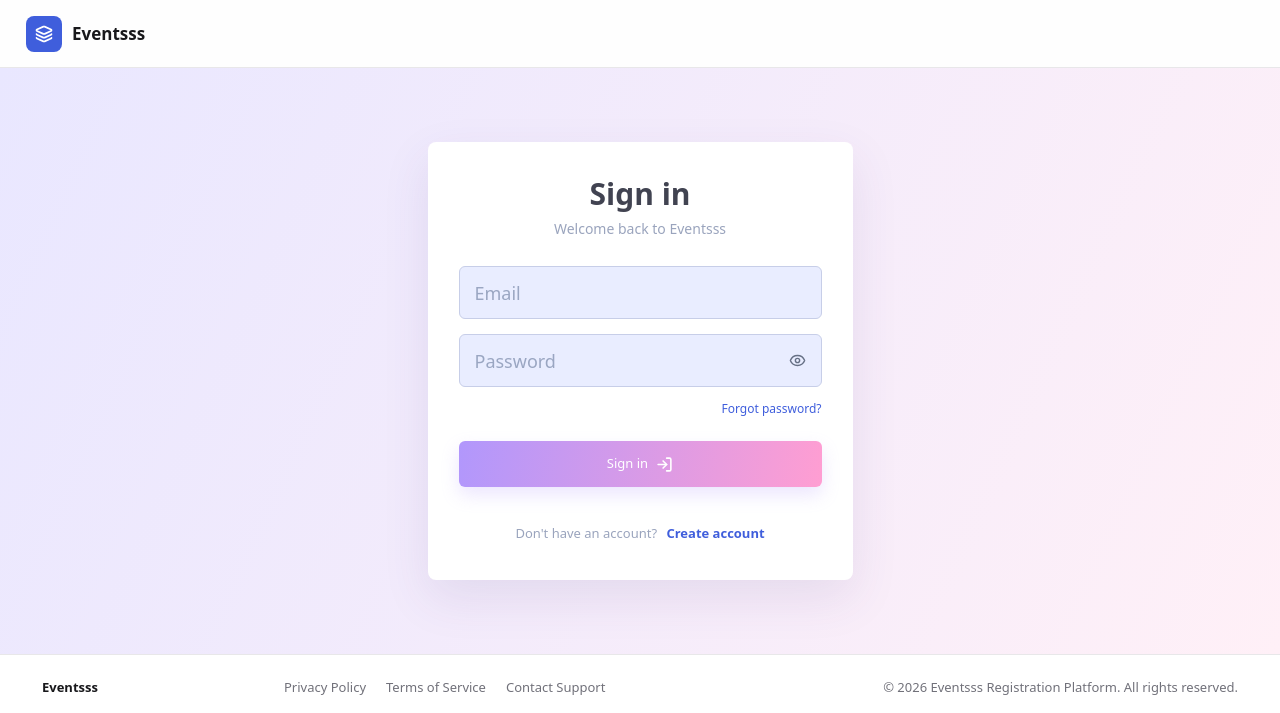
Test: Event governance › EVENT-002 retains an unsaved draft when the API reports a version conflict
In the field with test id "email": (641, 293) [459,266,822,319], type "admin@example.test"
In the password field with test id "password": (641, 361) [459,334,822,387], type "test-password-123"
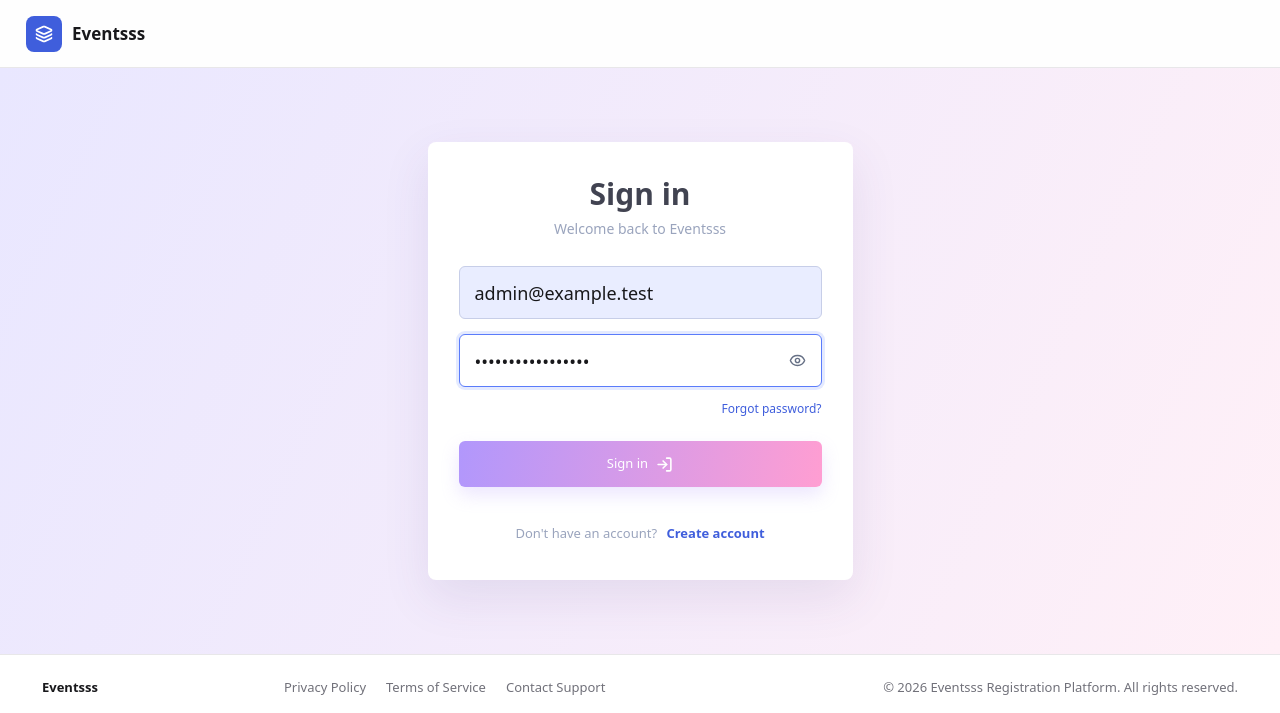
Click the button with test id "login-submit": (641, 464) [459,441,822,487]
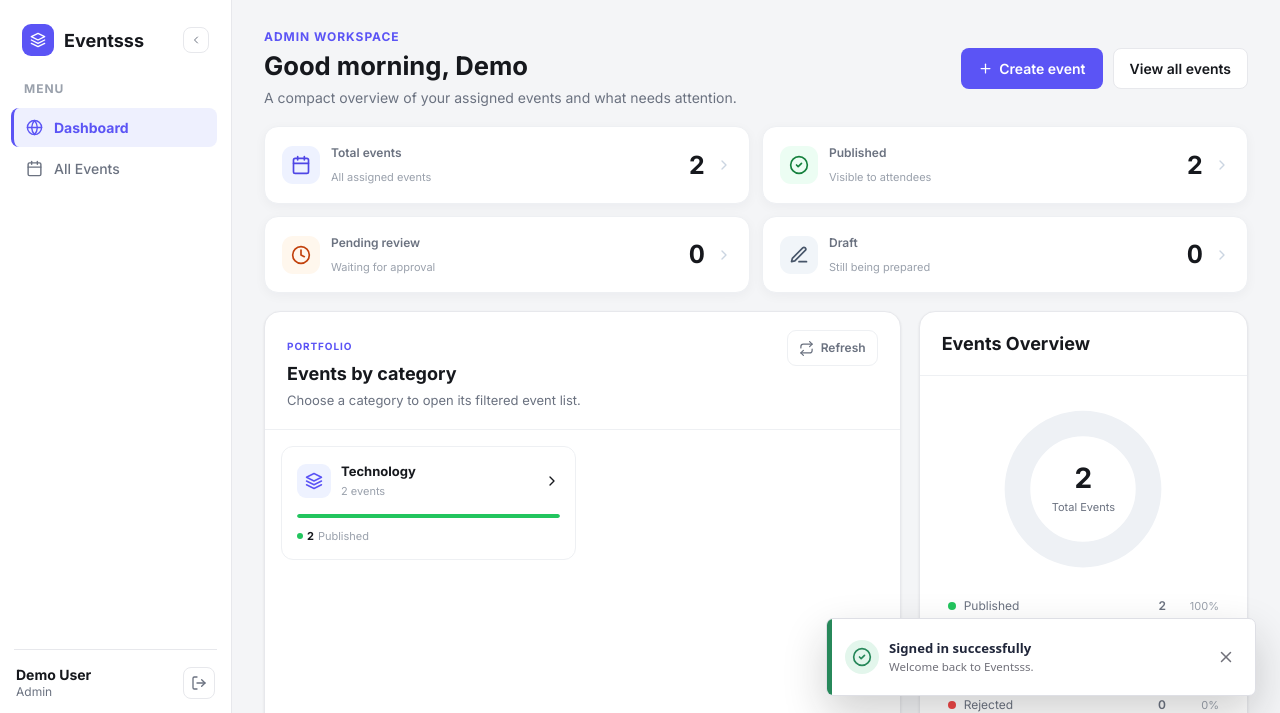
Open "/admin/create-event"
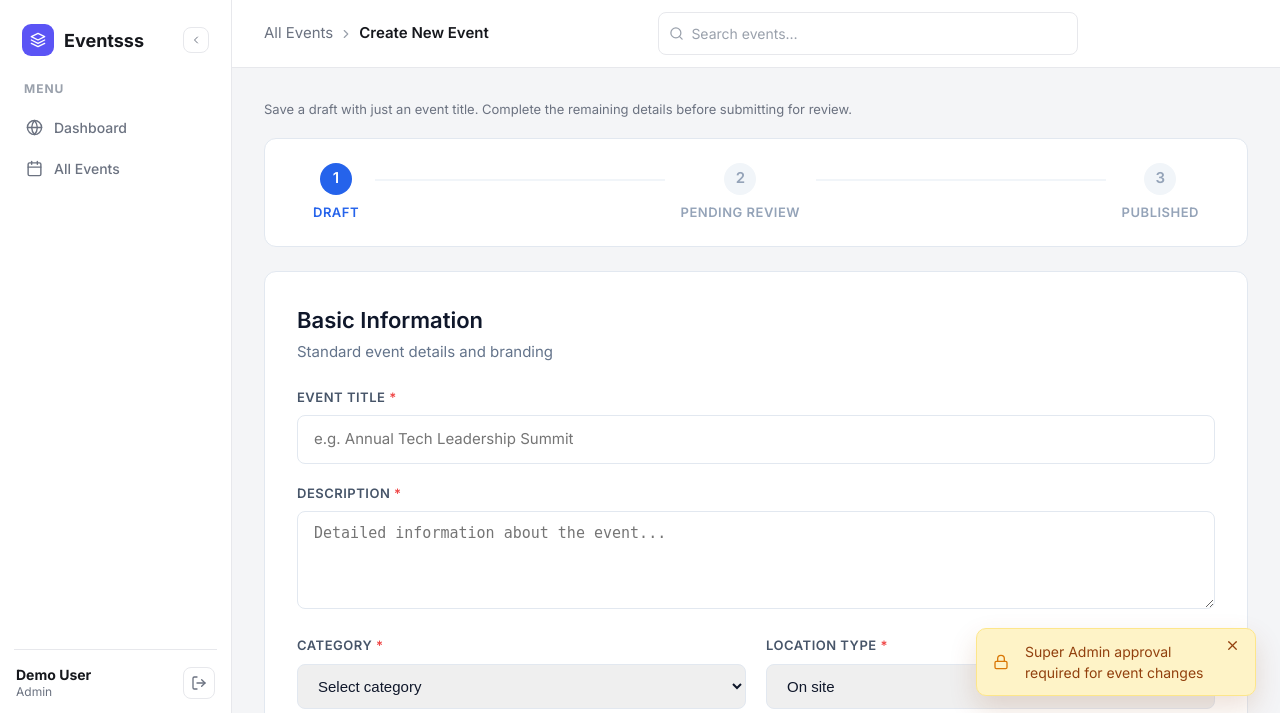
expect the field with test id "event-title" is enabled: met
In the field with test id "event-title": (756, 440) [297,415,1215,464], type "Unsaved workshop"
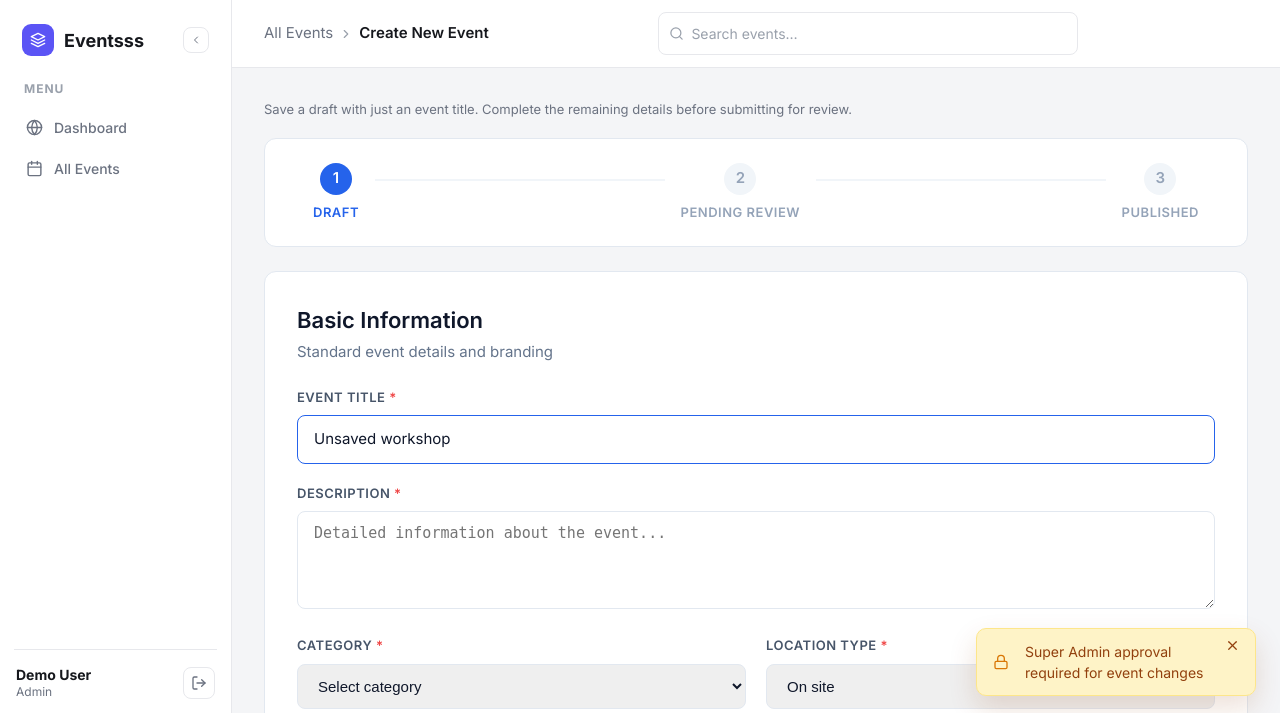
Scroll
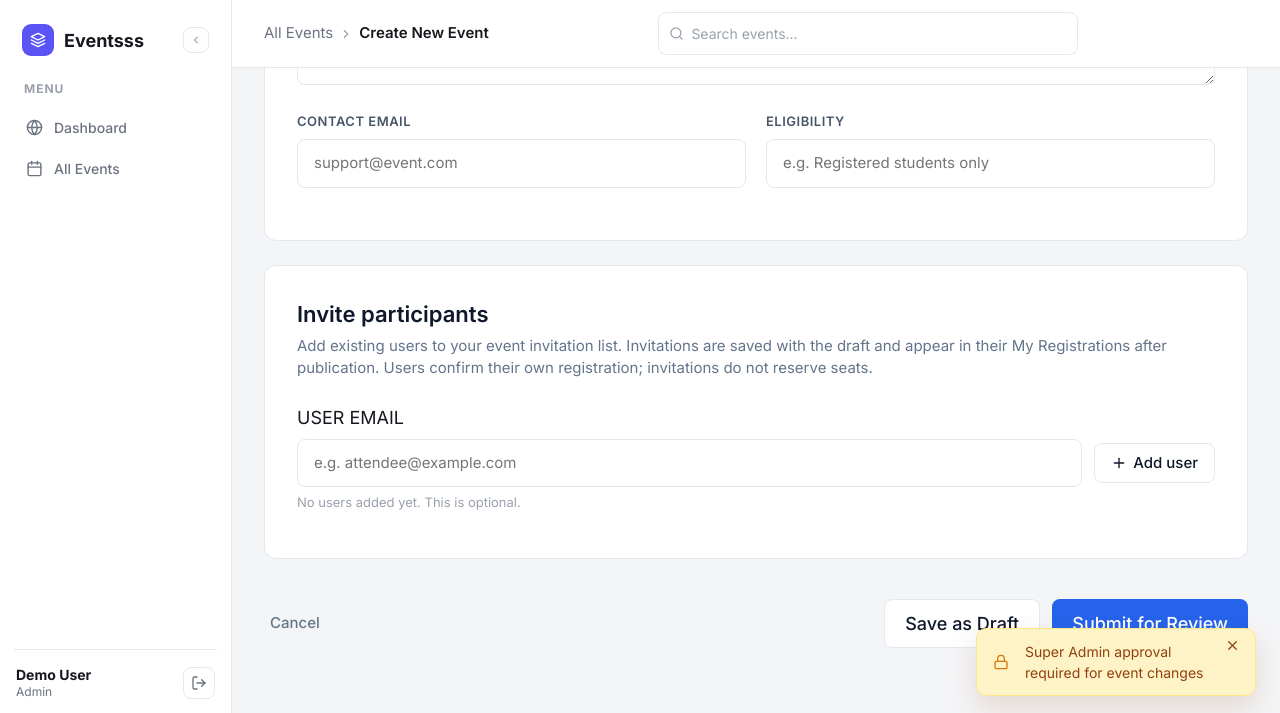
Click the button with test id "event-save-draft": (962, 624) [884,599,1040,648]
(page scrolled)
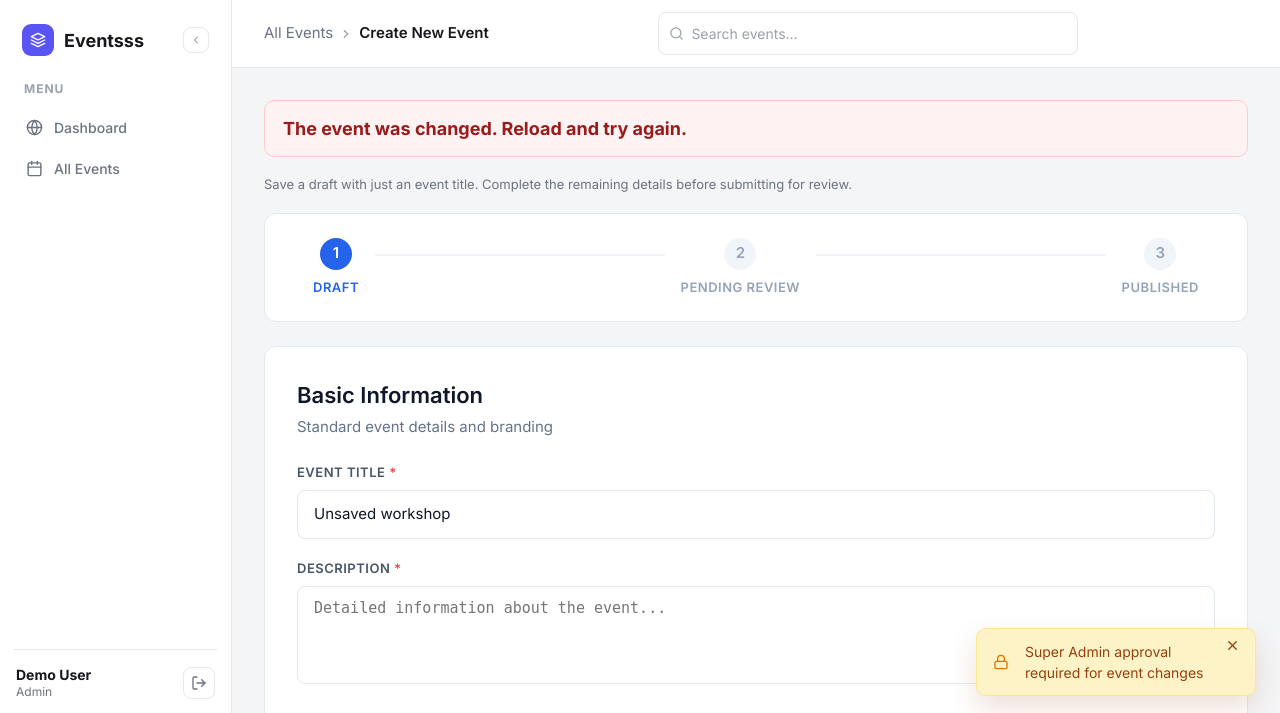
expect the text "The event was changed. Reload and try again." is shown: met, box [283,118,687,139]
